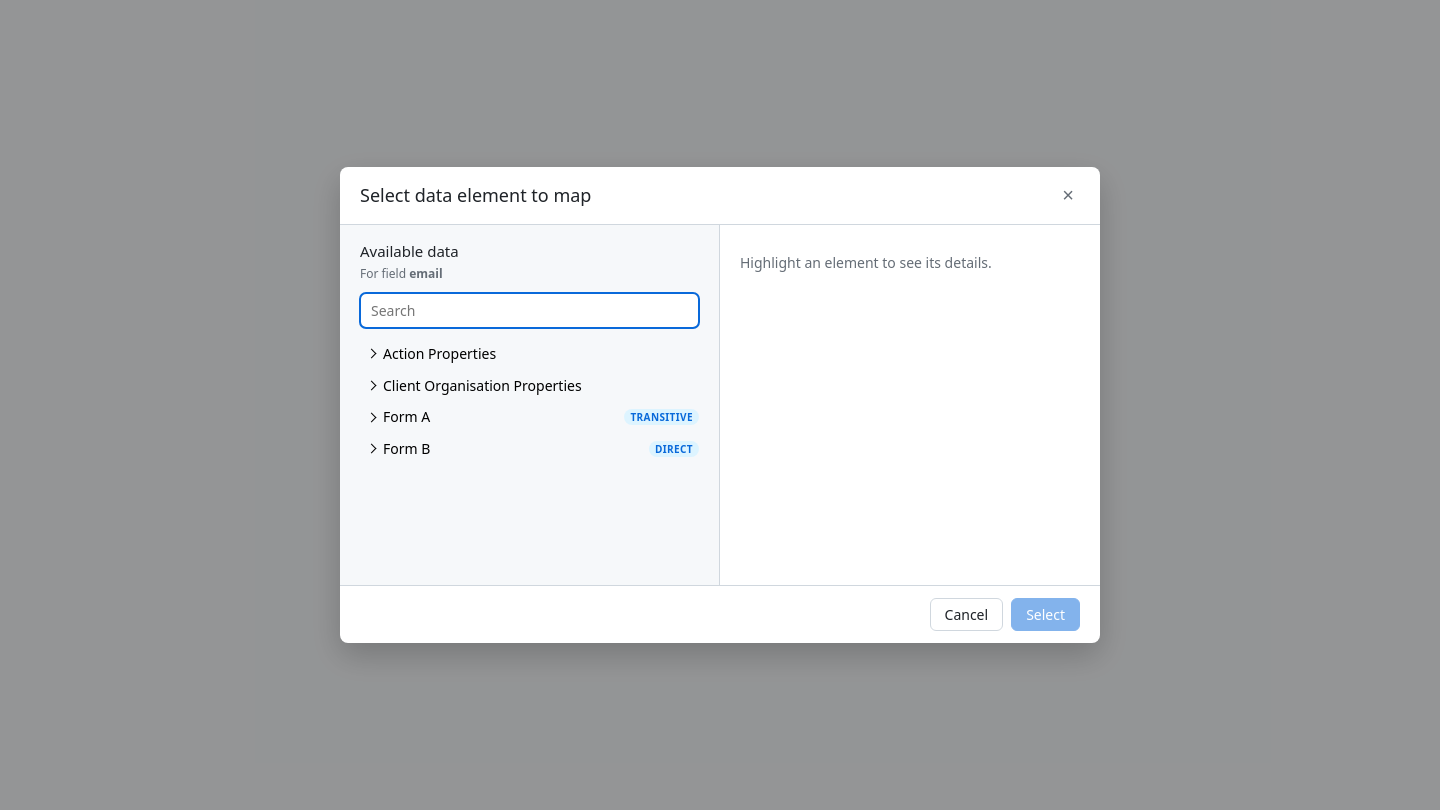
Scenario: DataPicker › search keeps matching elements and opens their groups
Type "mail" into the search field at point(530, 310), box [360,293,699,328]
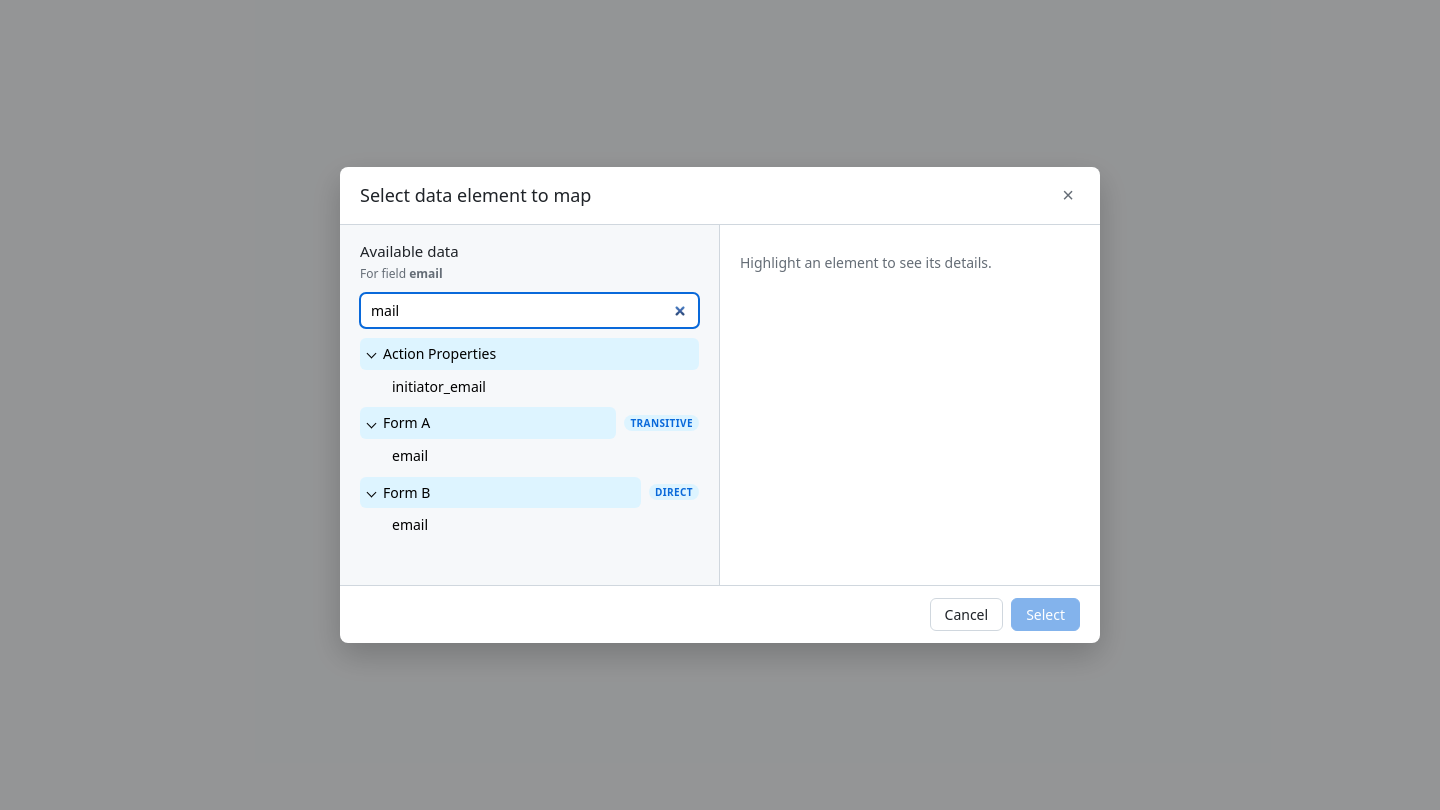
Result: the button "Form A" is expanded at [360,407,616,439]
Result: the buttons "mail" read "initiator_email", "email", "email", in this order at [384,372,699,401]; [384,441,699,471]; [384,510,699,540]
